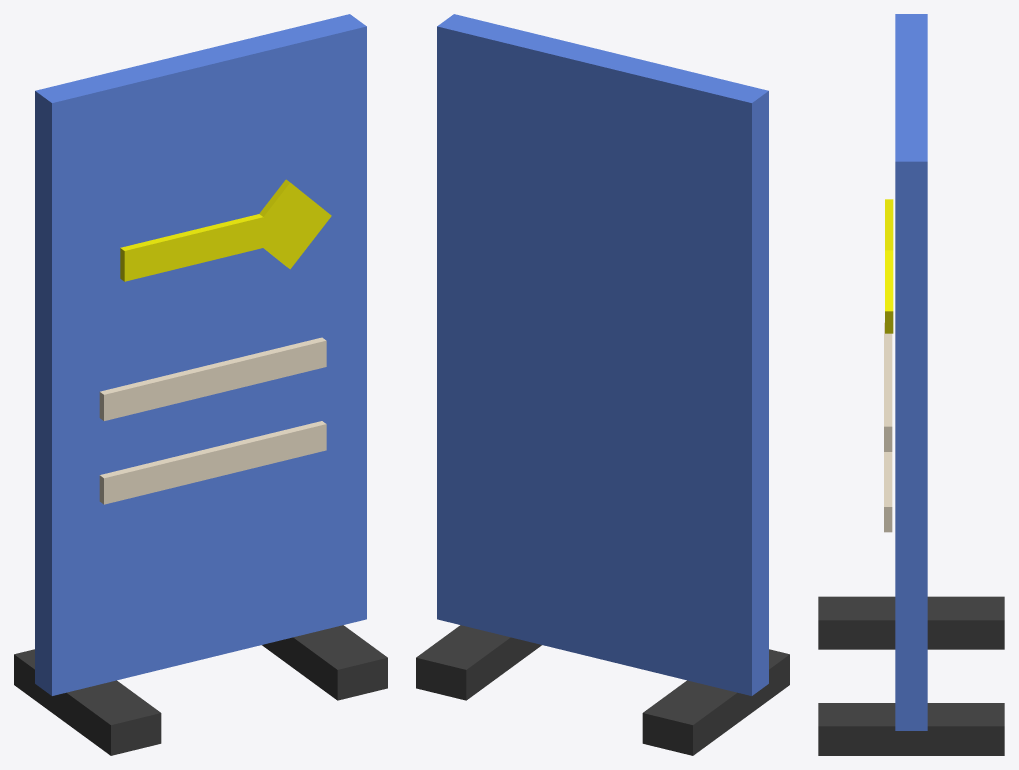
3 renders of one model, left to right at view 1: azimuth 30°, elevation 25°; view 2: azimuth 150°, elevation 25°; view 3: azimuth 270°, elevation 25°, orthographic. The views are drawn at different scales.
Parts seen in each view (by area): view 1: Panel, Information strip.001, Information strip, Panel foot, Panel foot.001, Direction arrow shaft, Direction arrow head; view 2: Panel, Panel foot, Panel foot.001; view 3: Panel, Panel foot.001, Panel foot, Information strip.001, Direction arrow head, Information strip, Direction arrow shaft.
Boxes of the visible parts, left/top/right/bottom form: Panel: left=35, top=14, right=366, bottom=695; Information strip.001: left=99, top=337, right=326, bottom=420; Information strip: left=99, top=421, right=326, bottom=504; Panel foot: left=14, top=649, right=161, bottom=755; Panel foot.001: left=262, top=625, right=387, bottom=700; Direction arrow shaft: left=120, top=214, right=270, bottom=281; Direction arrow head: left=249, top=179, right=331, bottom=269; Panel: left=437, top=14, right=768, bottom=695; Panel foot: left=642, top=649, right=789, bottom=755; Panel foot.001: left=416, top=625, right=541, bottom=700; Panel: left=895, top=14, right=927, bottom=730; Panel foot.001: left=818, top=703, right=1004, bottom=755; Panel foot: left=818, top=596, right=1004, bottom=649; Information strip.001: left=884, top=322, right=892, bottom=451; Direction arrow head: left=885, top=250, right=893, bottom=333; Information strip: left=884, top=452, right=892, bottom=532; Direction arrow shaft: left=885, top=199, right=893, bottom=250.
Bounding box in the file's own units: 0.75 × 1.43 × 0.4.
1 material, 1 textured.
